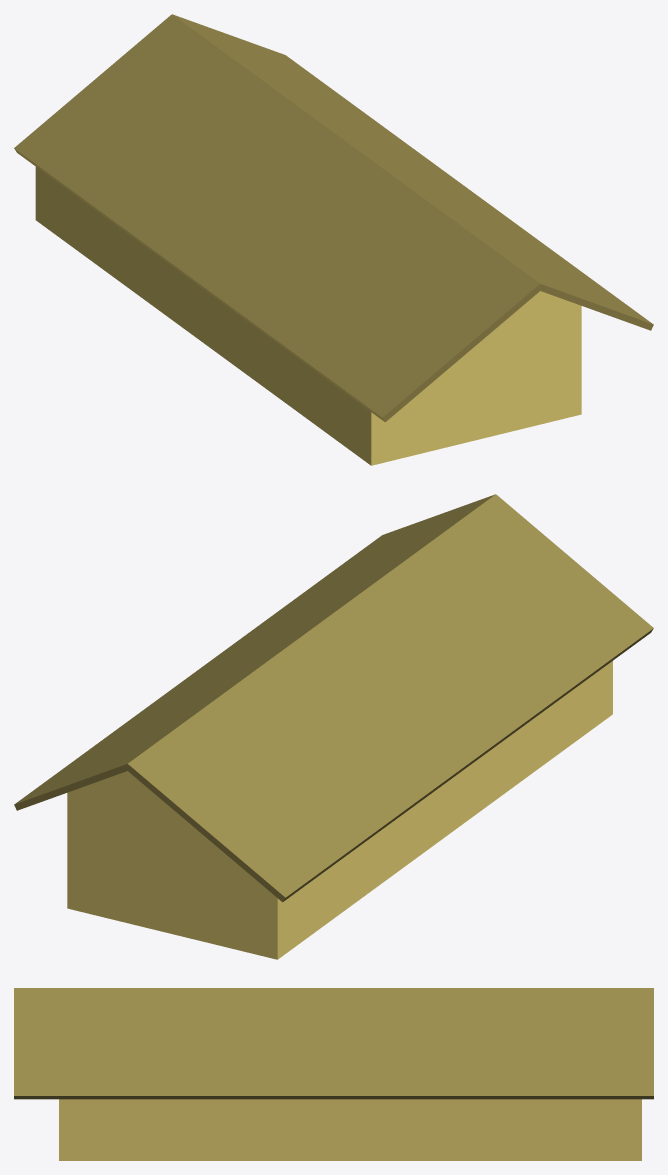
Rendered from result.glb.
The picture shows the model from 3 angles, top to bottom: view 1: azimuth 30°, elevation 25°; view 2: azimuth 150°, elevation 25°; view 3: azimuth 270°, elevation 25°; orthographic projection. The views are drawn at different scales.
Visible parts, largest first — view 1: 919d1733-047b-4dd1-8fe5-49cbcf7ad635__undefined (×2), 4b9a7b73-0c78-40c6-b57b-822d31cf5c8c__undefined; view 2: 919d1733-047b-4dd1-8fe5-49cbcf7ad635__undefined (×2), 4b9a7b73-0c78-40c6-b57b-822d31cf5c8c__undefined; view 3: 919d1733-047b-4dd1-8fe5-49cbcf7ad635__undefined, 4b9a7b73-0c78-40c6-b57b-822d31cf5c8c__undefined.
Boxes of the visible parts, x1,y1,x2,y2 form: 919d1733-047b-4dd1-8fe5-49cbcf7ad635__undefined (×2): [14, 14, 653, 422]; 4b9a7b73-0c78-40c6-b57b-822d31cf5c8c__undefined: [35, 167, 581, 465]; 919d1733-047b-4dd1-8fe5-49cbcf7ad635__undefined (×2): [14, 494, 653, 902]; 4b9a7b73-0c78-40c6-b57b-822d31cf5c8c__undefined: [67, 661, 612, 959]; 919d1733-047b-4dd1-8fe5-49cbcf7ad635__undefined: [14, 988, 653, 1099]; 4b9a7b73-0c78-40c6-b57b-822d31cf5c8c__undefined: [59, 1099, 641, 1160].
Size of the model in its own units: 1141 by 667 by 2680.
